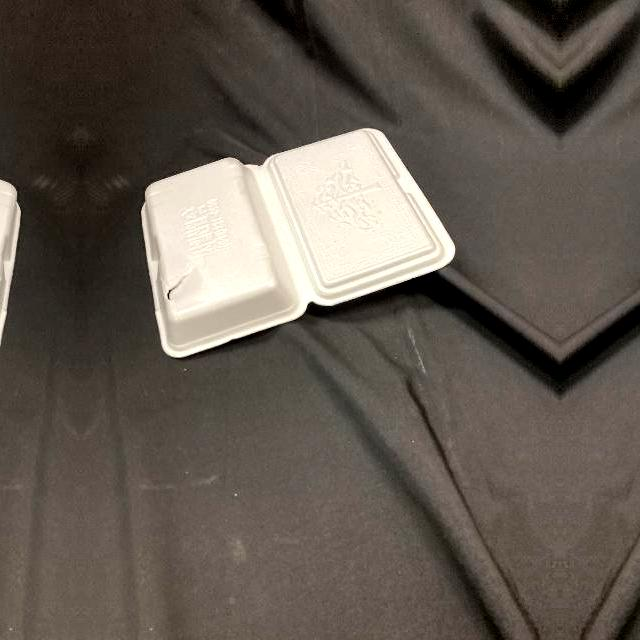Styrofoam: (137, 125, 457, 359), (140, 128, 455, 357)
